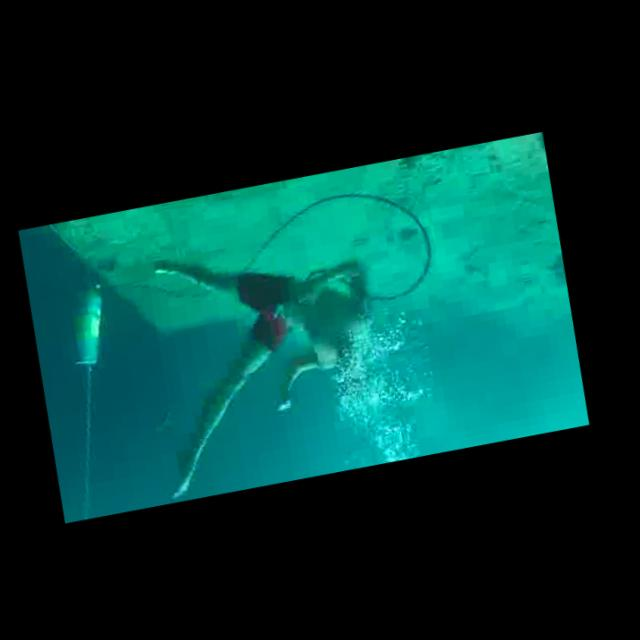human: (117, 206, 424, 508)
